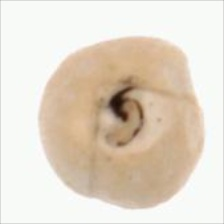L3: (90, 83, 169, 150)
L4: (38, 36, 205, 210)
